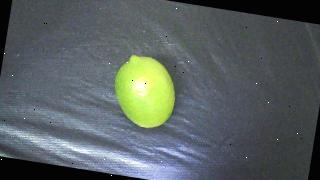LOCAL: (109, 52, 181, 131)
